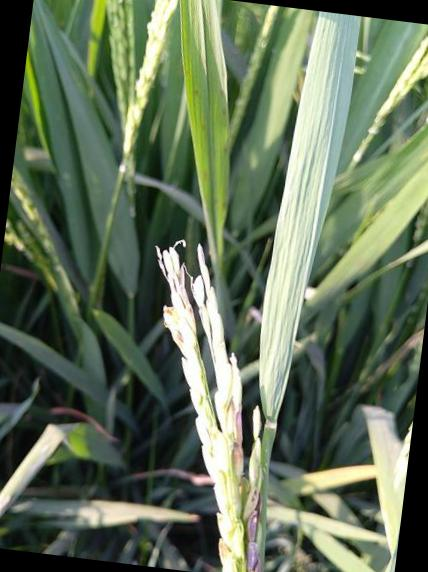Panicle Blight: (155, 240, 217, 413), (245, 465, 264, 572), (230, 396, 245, 481), (217, 538, 230, 572)
